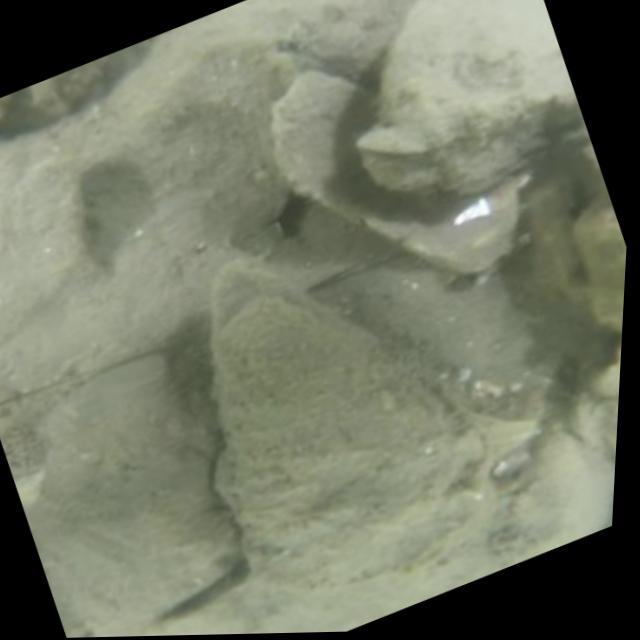Oyster-Closed: (213, 263, 489, 589)
Oyster-Indeterminate: (27, 354, 242, 627), (266, 65, 522, 280), (362, 0, 566, 196), (132, 0, 392, 90), (494, 431, 613, 558), (572, 192, 626, 333), (22, 48, 126, 119)
